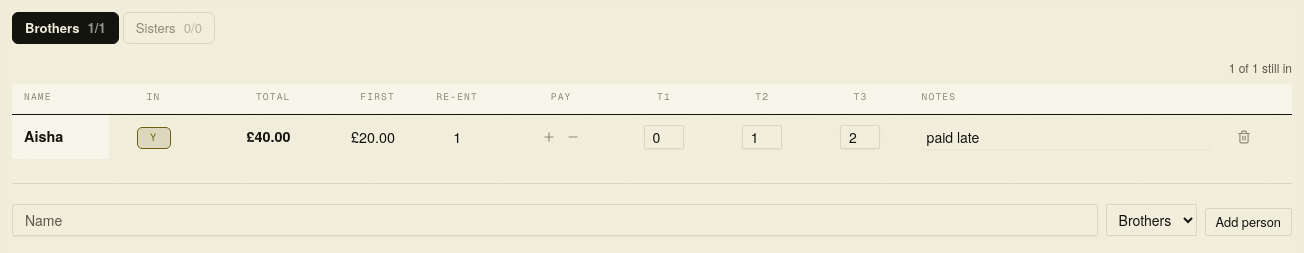
Test: DepositRoster › flips Y to N before the server answers
Click the button named "Mark Aisha as no longer on the course" at (154, 138), box [136, 127, 170, 149]
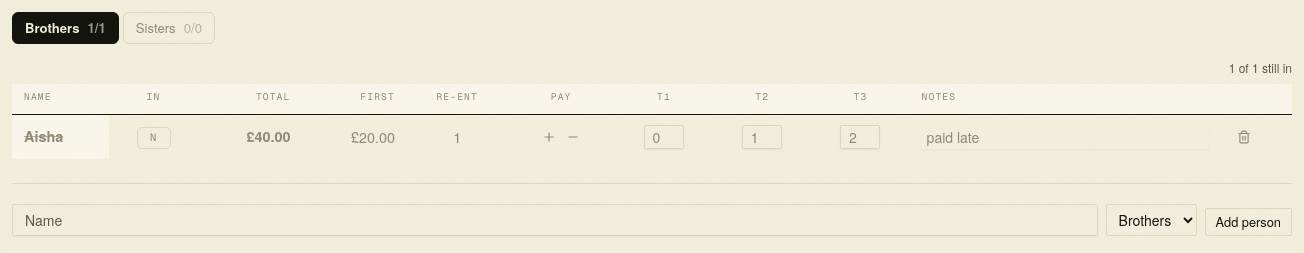
Expected: the button named "Mark Aisha as on the course" reads "N", [136, 127, 170, 149]
